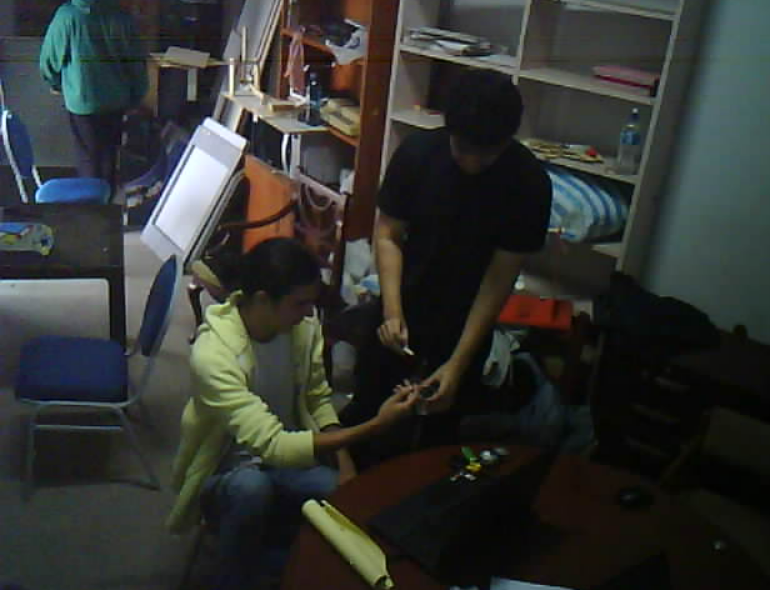person: (177, 232, 428, 590), (363, 59, 561, 442), (30, 0, 158, 232)
